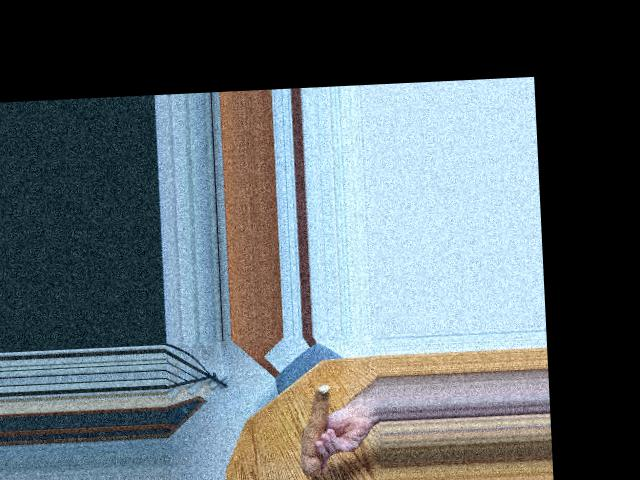sweet_potato: (293, 388, 337, 472)
